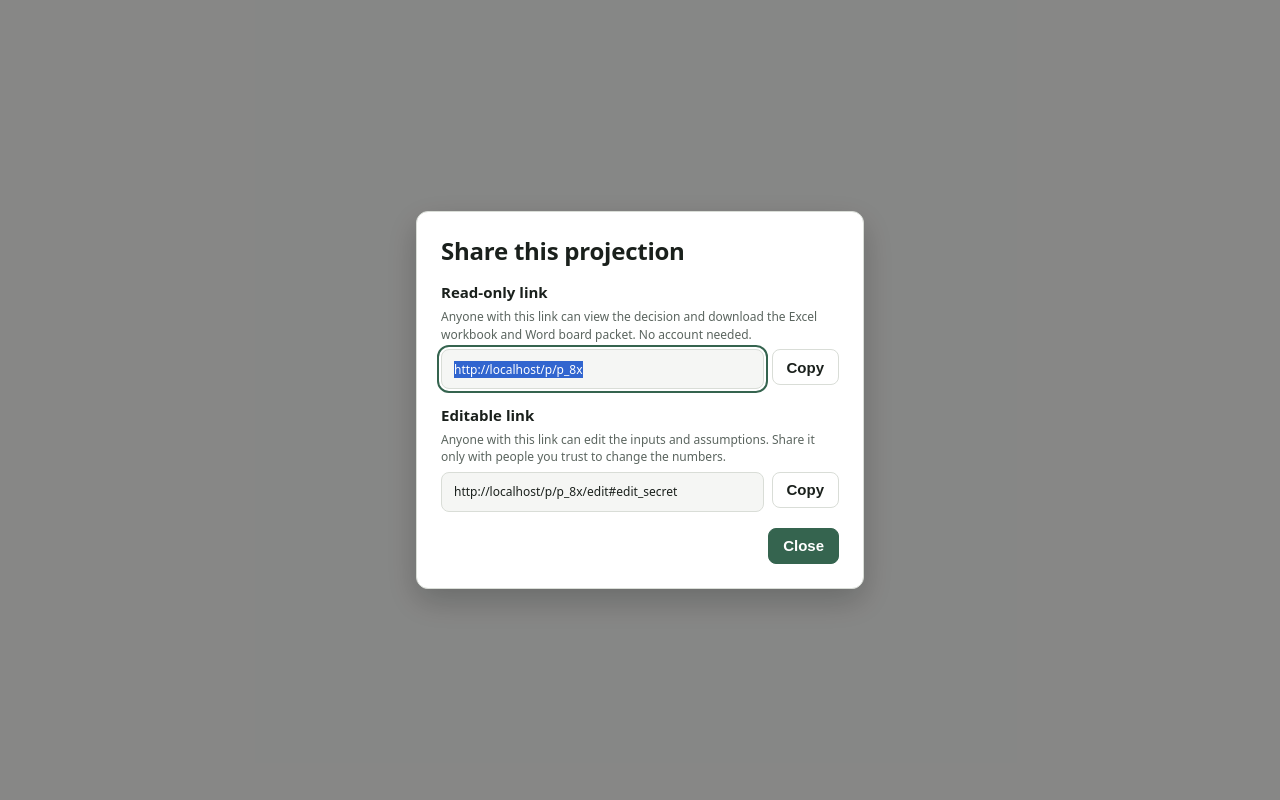
Test: ShareModal — copy › copies the editable (fragment) link and toasts on success
This screenshot has width=1280, height=800.
Click the button with test id "share-copy-edit" at (805, 490), box 772,472 -> 839,508
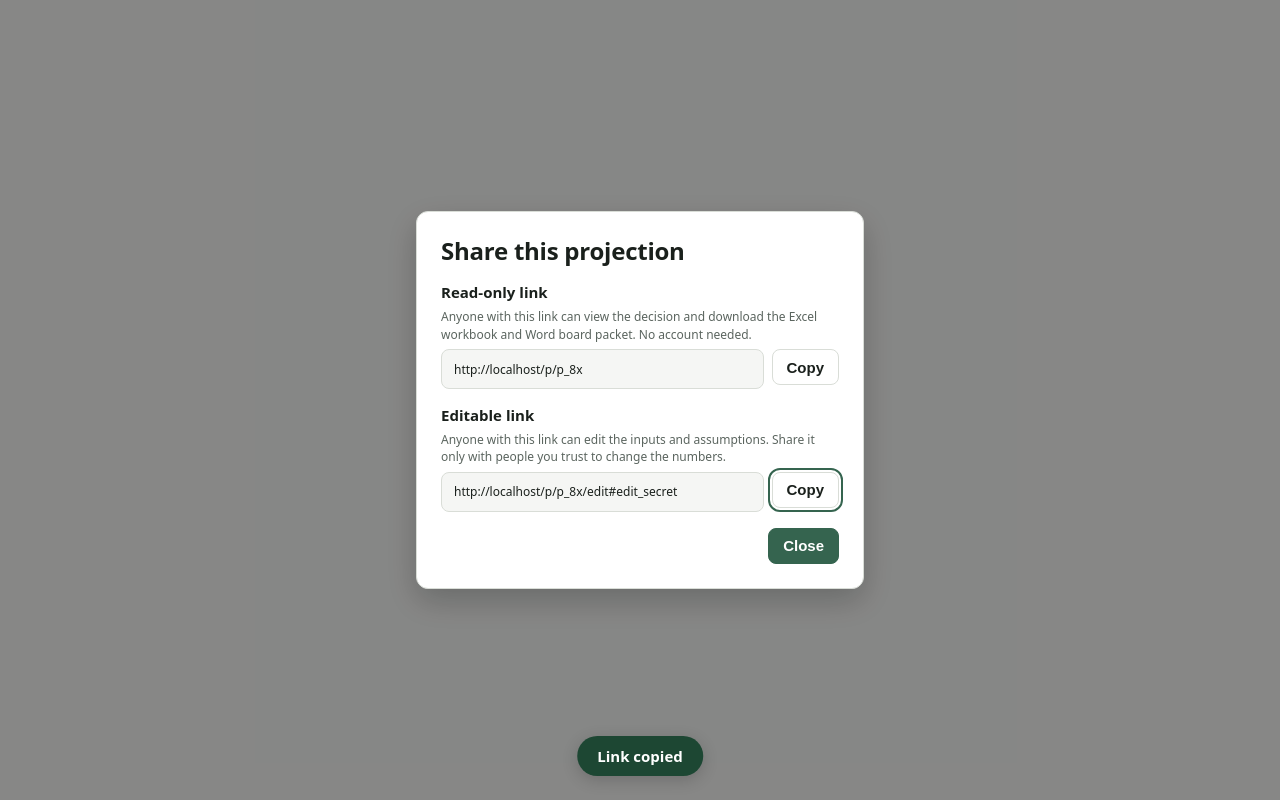
Expected: the message with test id "toast" reads "Link copied", 597,746 -> 683,766
